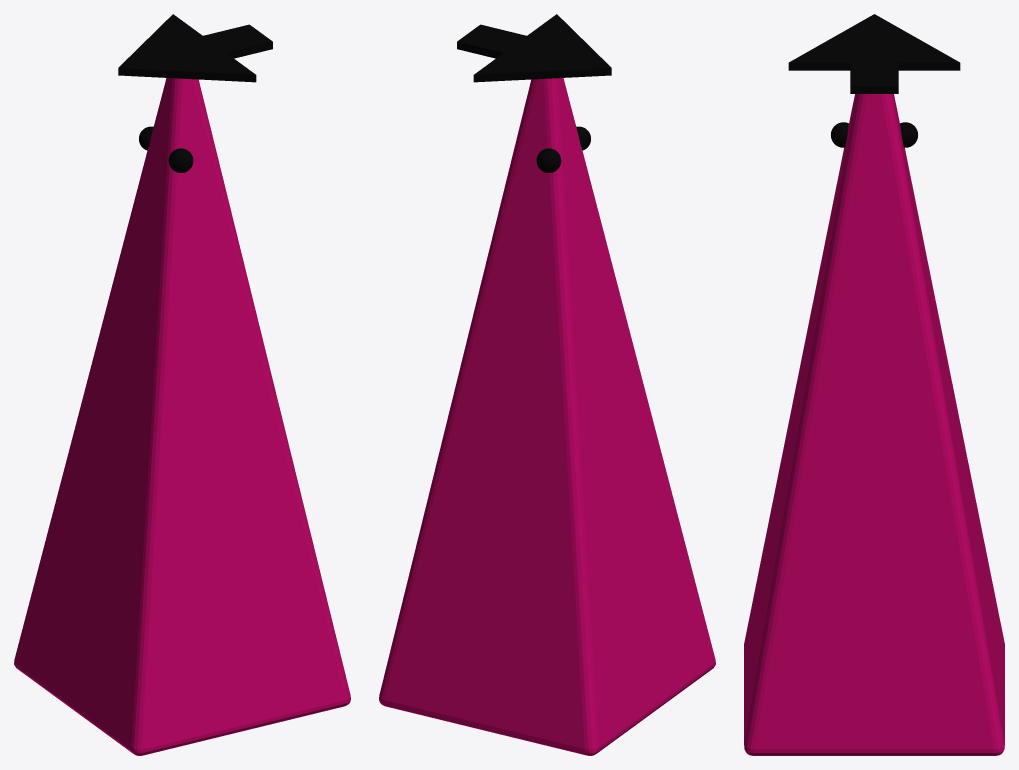
3 renders of one model, left to right at view 1: azimuth 30°, elevation 25°; view 2: azimuth 150°, elevation 25°; view 3: azimuth 270°, elevation 25°, orthographic. The views are drawn at different scales.
Visible parts, largest first — view 1: Cube.019_Cube.006_Material.004, Cube.019_Cube.006_SVGMat; view 2: Cube.019_Cube.006_Material.004, Cube.019_Cube.006_SVGMat; view 3: Cube.019_Cube.006_Material.004, Cube.019_Cube.006_SVGMat.
Boxes of the visible parts, x1,y1,x2,y2 form: Cube.019_Cube.006_Material.004: (14,78,350,755); Cube.019_Cube.006_SVGMat: (118,14,272,172); Cube.019_Cube.006_Material.004: (379,78,715,755); Cube.019_Cube.006_SVGMat: (457,14,611,172); Cube.019_Cube.006_Material.004: (744,94,1004,755); Cube.019_Cube.006_SVGMat: (788,14,960,147).
Size of the model in its own units: 0.1762 by 0.4901 by 0.1762.
